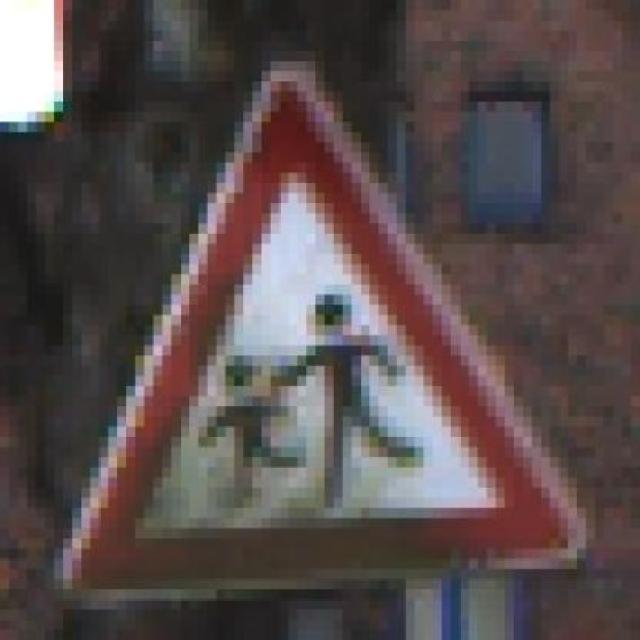Beware of children: (54, 61, 586, 590)
